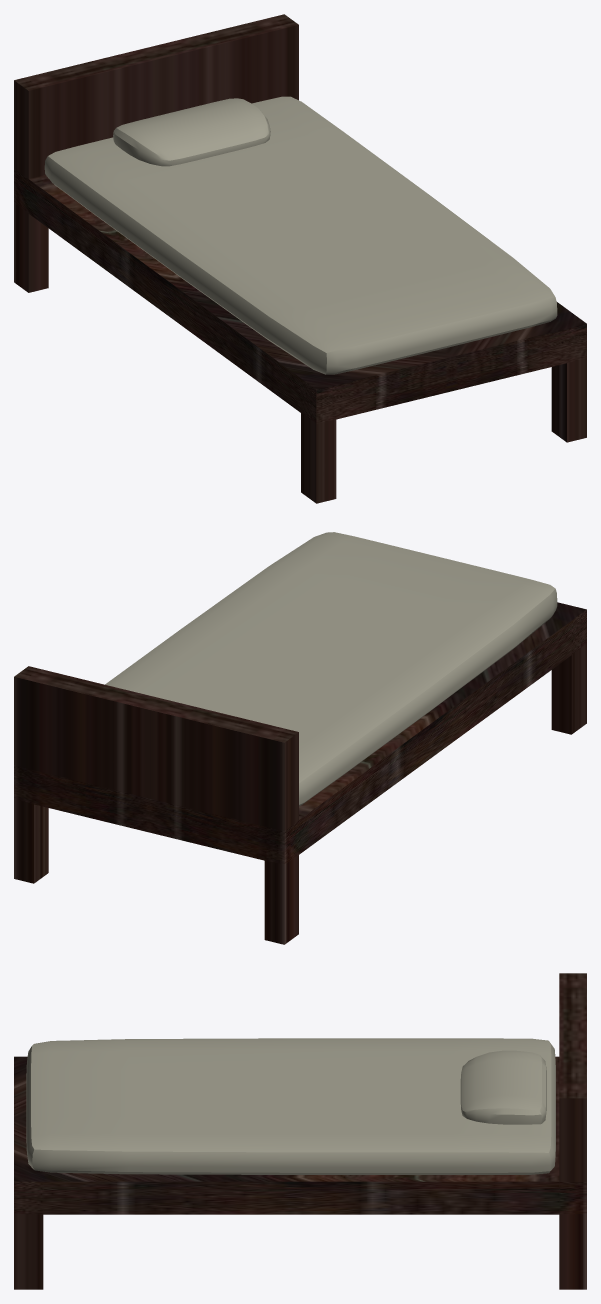
File: Bed.fbx
3 views of the same model, one above another, from view 1: azimuth 30°, elevation 25°; view 2: azimuth 150°, elevation 25°; view 3: azimuth 270°, elevation 25° (orthographic). The views are drawn at different scales.
Parts seen in each view (by area): view 1: Cube.001, Bed, Cube.002; view 2: Bed, Cube.001; view 3: Cube.001, Bed, Cube.002.
Boxes of the visible parts, x1,y1,x2,y2 form: Cube.001: (44,96,557,374); Bed: (14,14,586,503); Cube.002: (113,98,270,166); Bed: (14,602,586,944); Cube.001: (105,532,557,806); Cube.001: (26,1038,555,1174); Bed: (14,973,586,1289); Cube.002: (460,1050,546,1124).
Bounding box in the file's own units: 206 × 147 × 398.
2 materials, 1 textured.
